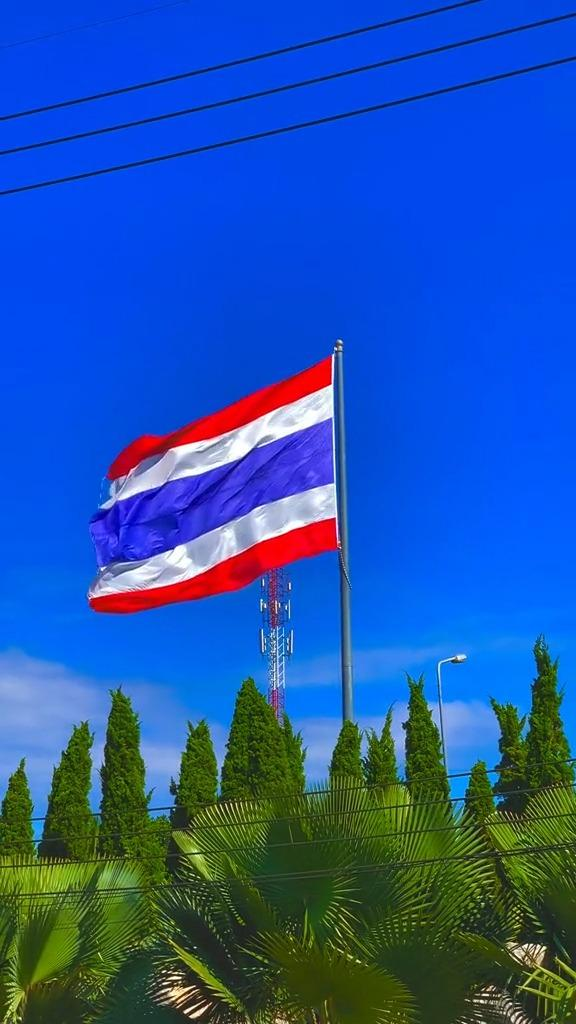Thailand: (89, 358, 338, 615)
